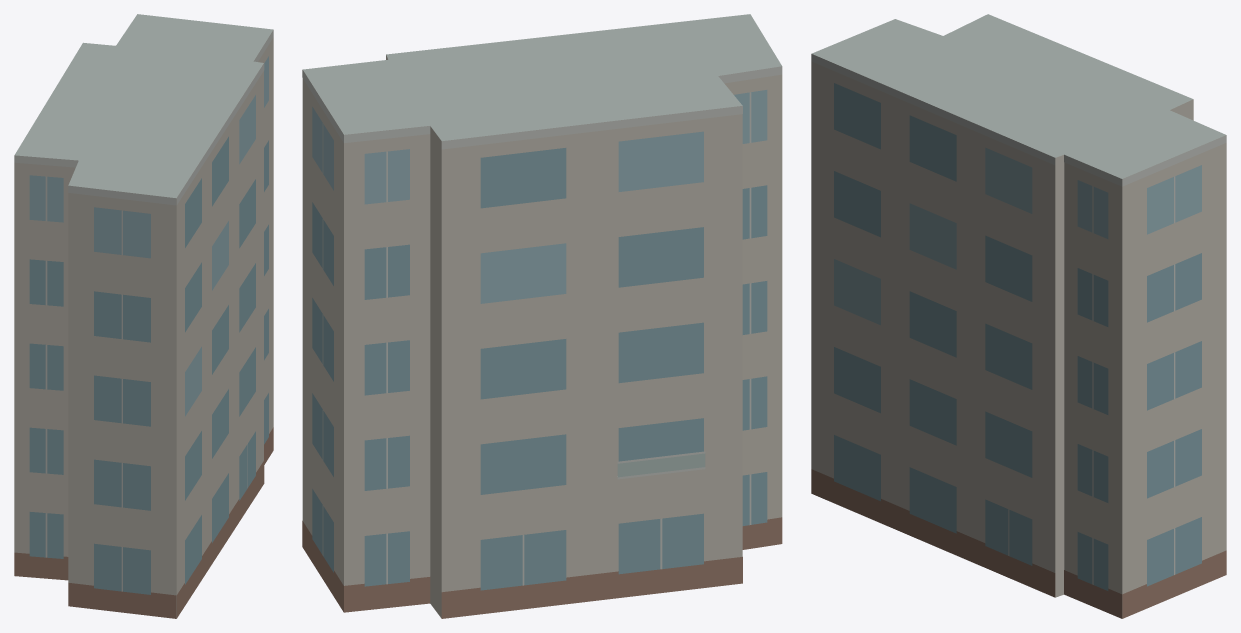
File: survey-upis-32731360.glb
3 views of the same model, side by side, from view 1: azimuth 30°, elevation 25°; view 2: azimuth 150°, elevation 25°; view 3: azimuth 270°, elevation 25° (orthographic). The views are drawn at different scales.
Visible parts, largest first — view 1: survey-upis-32731360.tmp; view 2: survey-upis-32731360.tmp; view 3: survey-upis-32731360.tmp.
Part boxes in pixels (left/top/right/bottom): survey-upis-32731360.tmp: left=14, top=14, right=273, bottom=618; survey-upis-32731360.tmp: left=302, top=14, right=782, bottom=618; survey-upis-32731360.tmp: left=811, top=14, right=1226, bottom=618.
Size of the model in its own units: 11.27 by 14 by 11.98.
